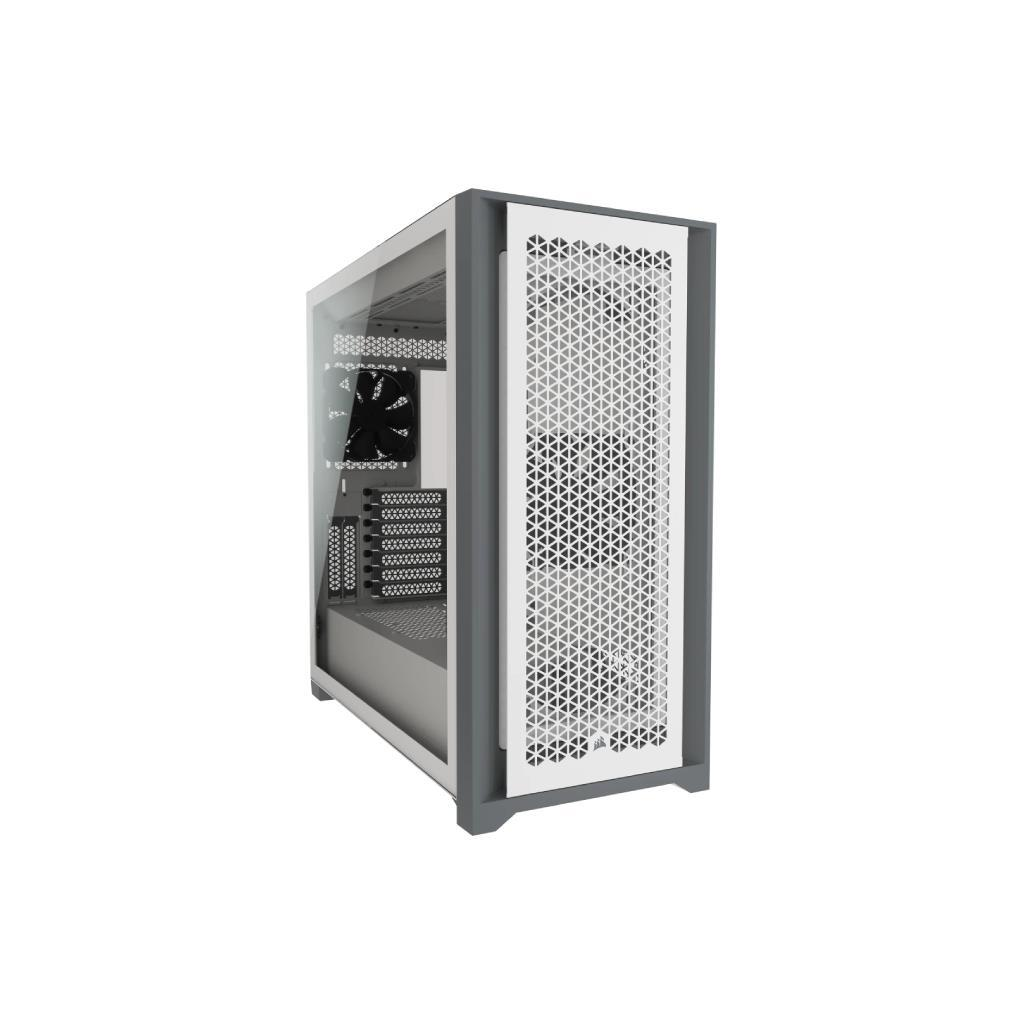pc: (240, 168, 776, 854)
